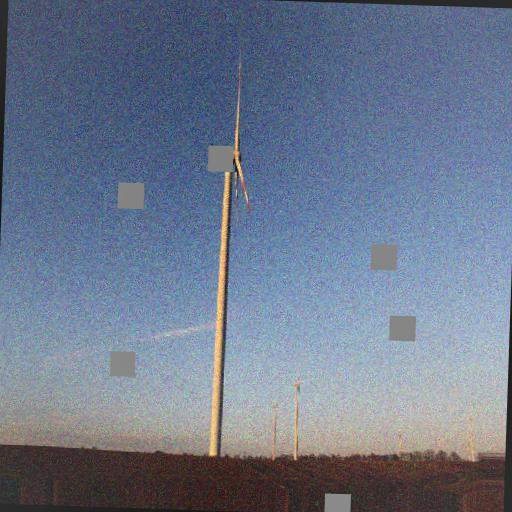wind turbine: (206, 46, 250, 463)
